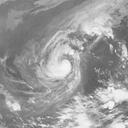cyclone: (38, 36, 76, 83)
